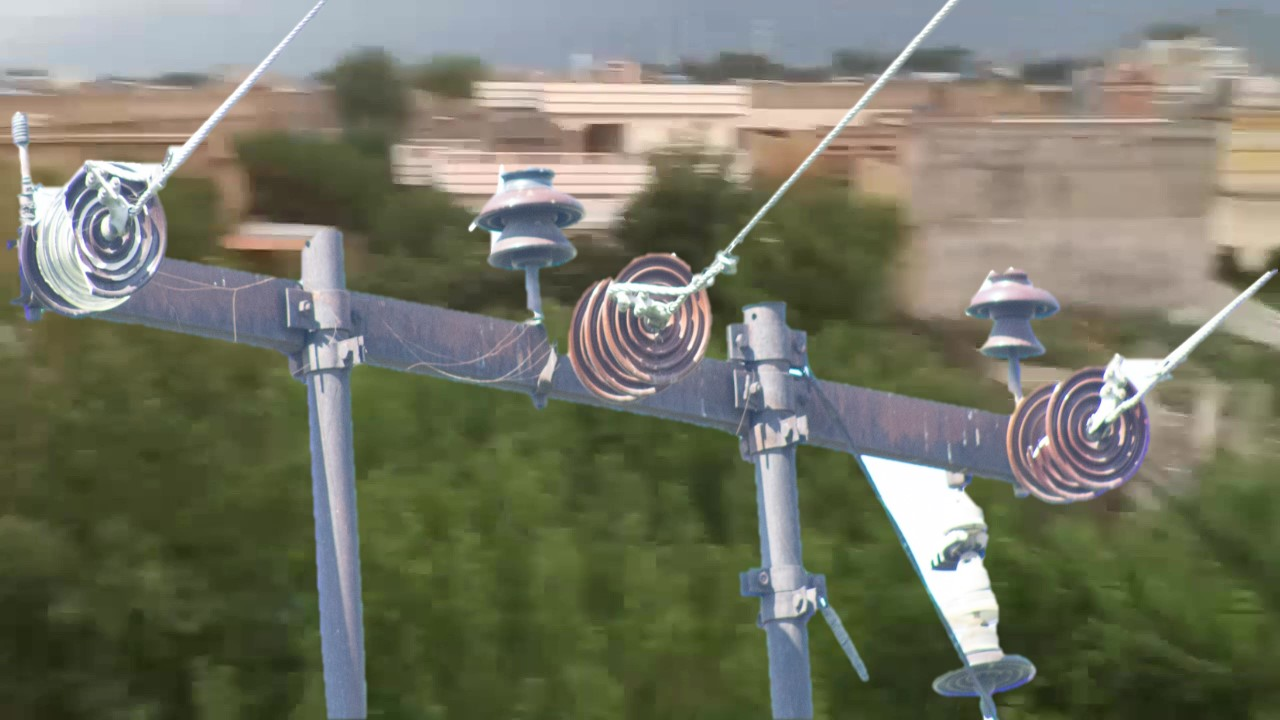defect_disc: (37, 153, 178, 324)
insulator_disc: (596, 242, 720, 387), (1027, 364, 1151, 488)
